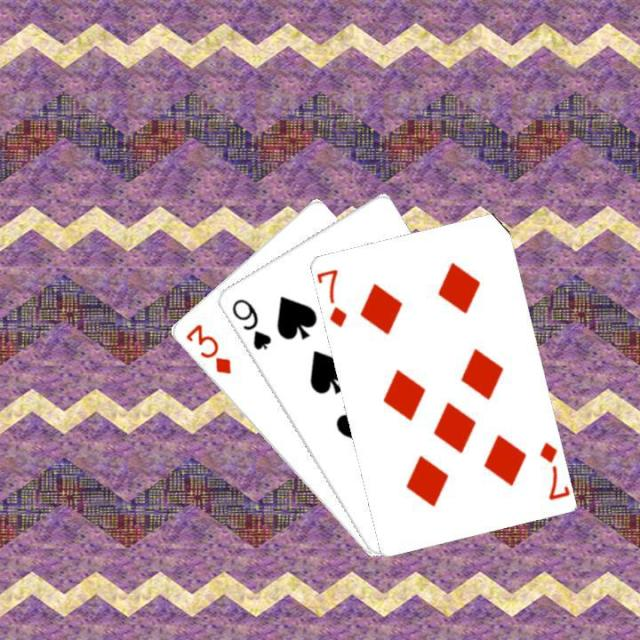3D: (180, 319, 233, 376)
7D: (314, 265, 348, 329), (535, 438, 568, 502)
9S: (227, 294, 273, 352)
